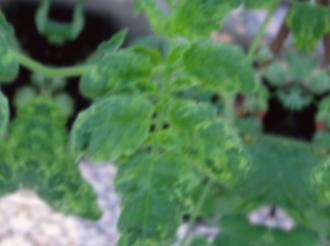Tomato leaf mosaic virus: (93, 134, 204, 246), (151, 96, 261, 189), (61, 76, 162, 173), (173, 34, 273, 103), (160, 0, 256, 58)
